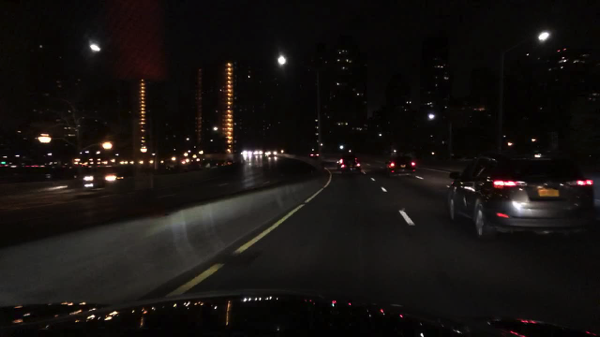car: (446, 155, 598, 244), (383, 154, 418, 174), (82, 168, 119, 185), (17, 167, 52, 184), (337, 156, 364, 174), (50, 167, 80, 179), (162, 159, 189, 172), (0, 166, 22, 179), (214, 158, 231, 167), (188, 161, 202, 171), (239, 150, 253, 158), (308, 153, 320, 161), (266, 150, 279, 157), (254, 150, 264, 156)
traffic sign: (550, 133, 559, 150)
